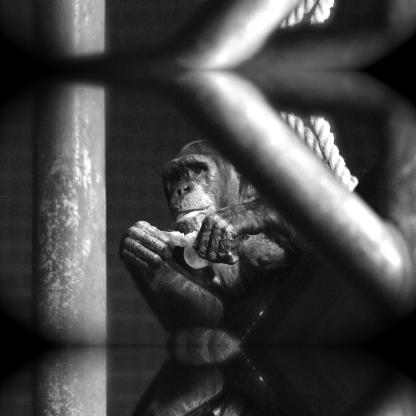Monkey: (139, 135, 311, 309)
